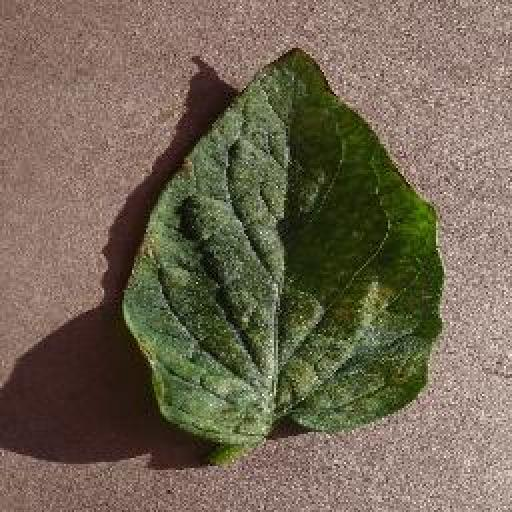Spider Mites: (118, 44, 447, 445)
